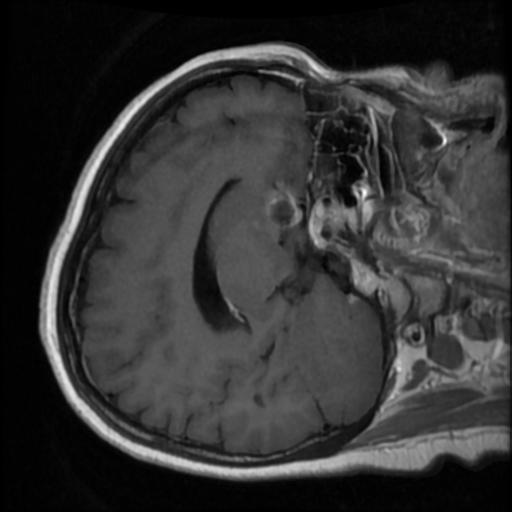pituitary tumour: (263, 194, 302, 232)
